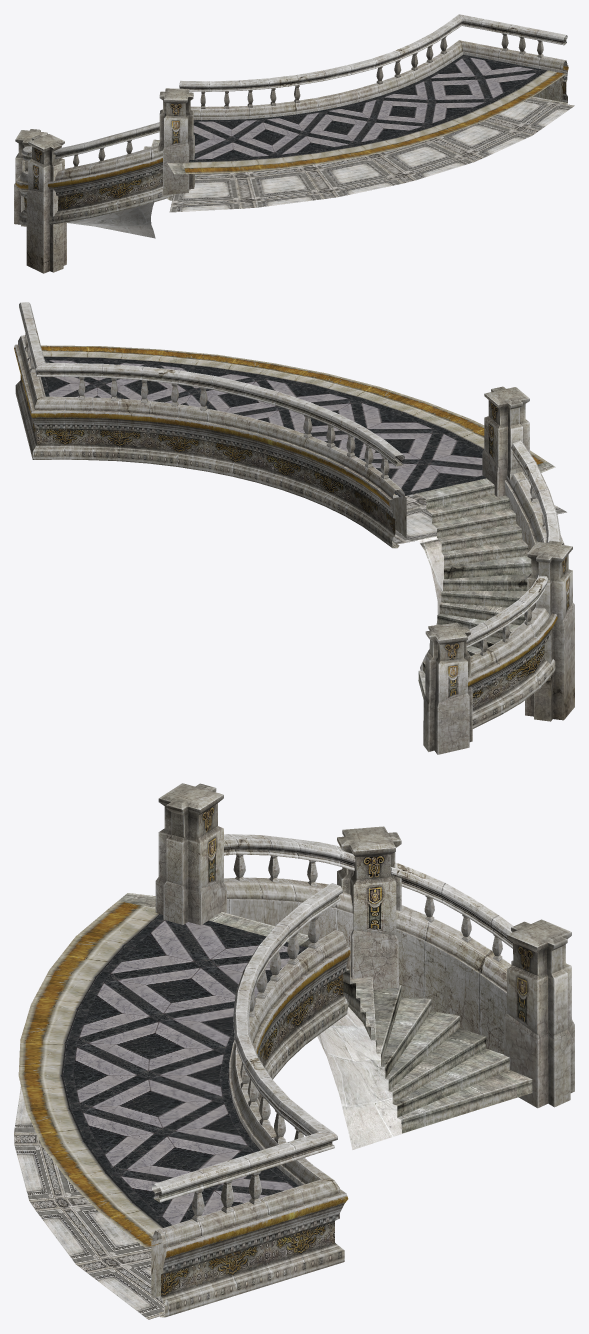
Rendered from KnightCastle_LibraryBalcony.FBX.
3 views of the same model, one above another, from view 1: azimuth 30°, elevation 25°; view 2: azimuth 150°, elevation 25°; view 3: azimuth 270°, elevation 25° (orthographic). The views are drawn at different scales.
Visible parts, largest first — view 1: SM_KnightCastle_LibraryBalcony; view 2: SM_KnightCastle_LibraryBalcony; view 3: SM_KnightCastle_LibraryBalcony.
Boxes of the visible parts, x1,y1,x2,y2 form: SM_KnightCastle_LibraryBalcony: (14,14,574,273); SM_KnightCastle_LibraryBalcony: (14,302,574,754); SM_KnightCastle_LibraryBalcony: (14,783,574,1319).
Bounding box in the file's own units: 1354 × 743 × 504.
